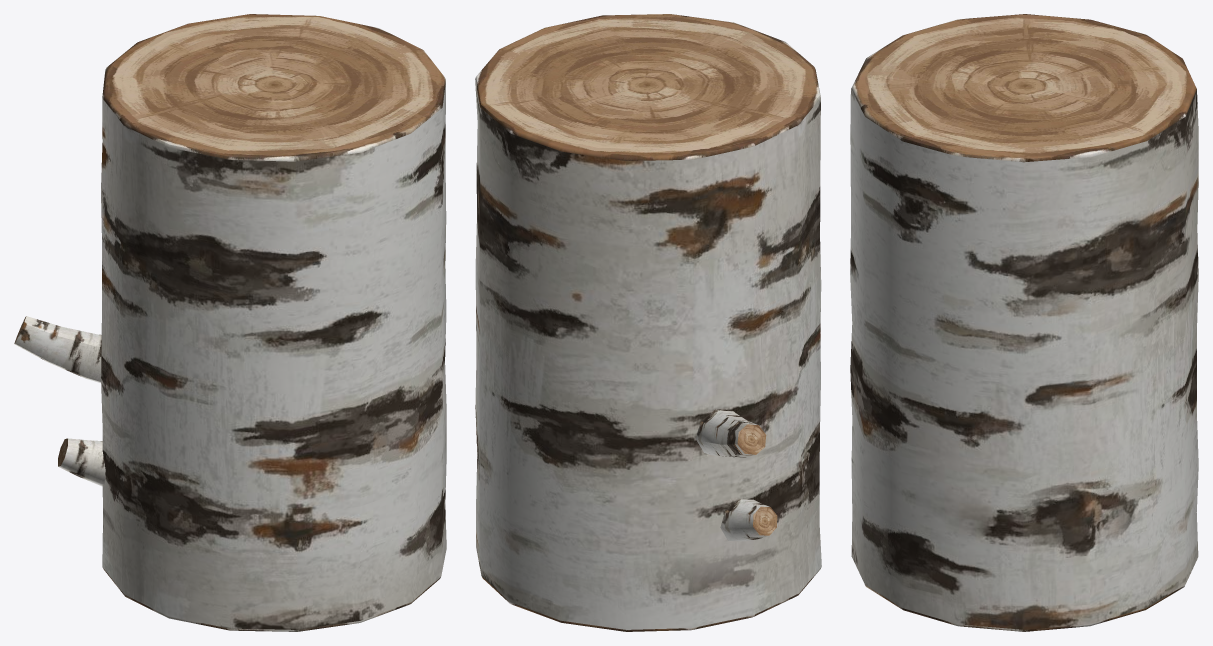
File: birch_log_05.fbx
3 views of the same model, side by side, from view 1: azimuth 30°, elevation 25°; view 2: azimuth 150°, elevation 25°; view 3: azimuth 270°, elevation 25° (orthographic).
Visible parts, largest first — view 1: SM_Log_006; view 2: SM_Log_006; view 3: SM_Log_006.
Part boxes in pixels (x1,y1,x2,y2): SM_Log_006: (14,14,446,631); SM_Log_006: (475,14,821,631); SM_Log_006: (850,14,1198,631).
Size of the model in its own units: 2.33 by 3.11 by 2.07.
Materials: 2 (2 with a texture image).
